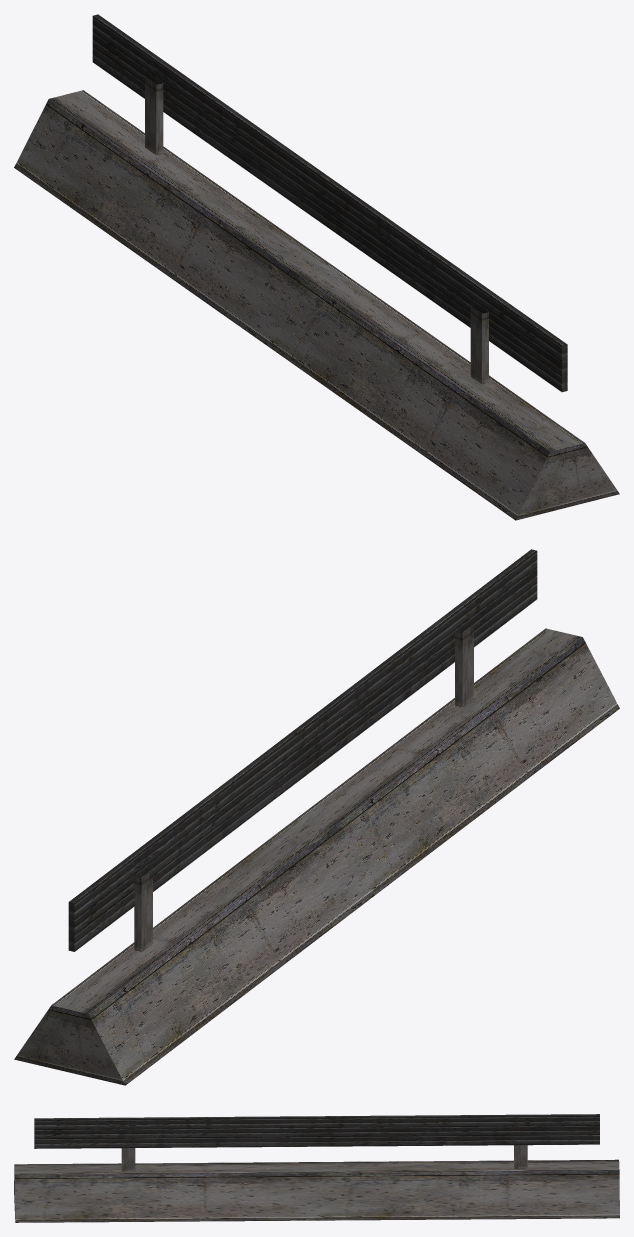
Rendered from barrier.glb.
The picture shows the model from 3 angles, top to bottom: view 1: azimuth 30°, elevation 25°; view 2: azimuth 150°, elevation 25°; view 3: azimuth 270°, elevation 25°; orthographic projection. The views are drawn at different scales.
Visible parts, largest first — view 1: XW_CONCBARRIERCORRUGATEDA_1B_RB_00; view 2: XW_CONCBARRIERCORRUGATEDA_1B_RB_00; view 3: XW_CONCBARRIERCORRUGATEDA_1B_RB_00.
Part boxes in pixels (x1,y1,x2,y2): XW_CONCBARRIERCORRUGATEDA_1B_RB_00: (14,14,619,520); XW_CONCBARRIERCORRUGATEDA_1B_RB_00: (14,549,619,1085); XW_CONCBARRIERCORRUGATEDA_1B_RB_00: (14,1114,619,1222).
Size of the model in its own units: 1.14 by 1.34 by 8.02.
2 materials, 2 textured.
